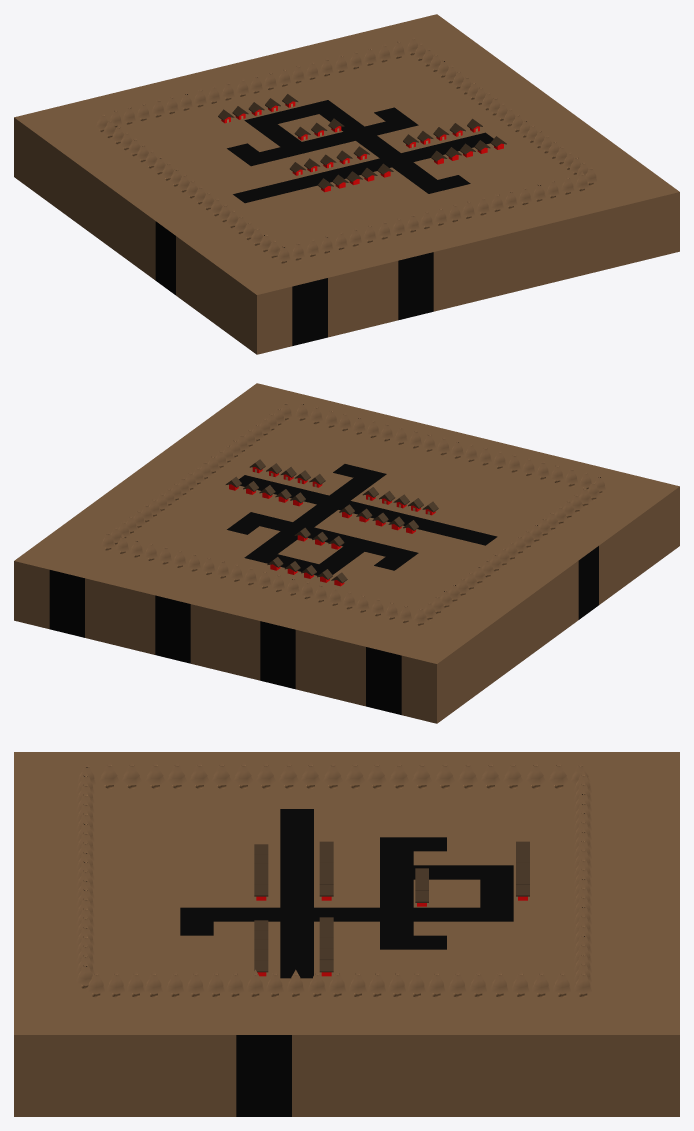
The model's file is Naapuristo.fbx.
3 renders of one model, top to bottom at view 1: azimuth 30°, elevation 25°; view 2: azimuth 150°, elevation 25°; view 3: azimuth 270°, elevation 25°, orthographic. The views are drawn at different scales.
Visible parts, largest first — view 1: Cube; view 2: Cube; view 3: Cube.
Part boxes in pixels (x1,y1,x2,y2): Cube: [14, 14, 679, 354]; Cube: [14, 383, 679, 723]; Cube: [14, 752, 679, 1116].
Size of the model in its own units: 18783 by 3342 by 18681.
